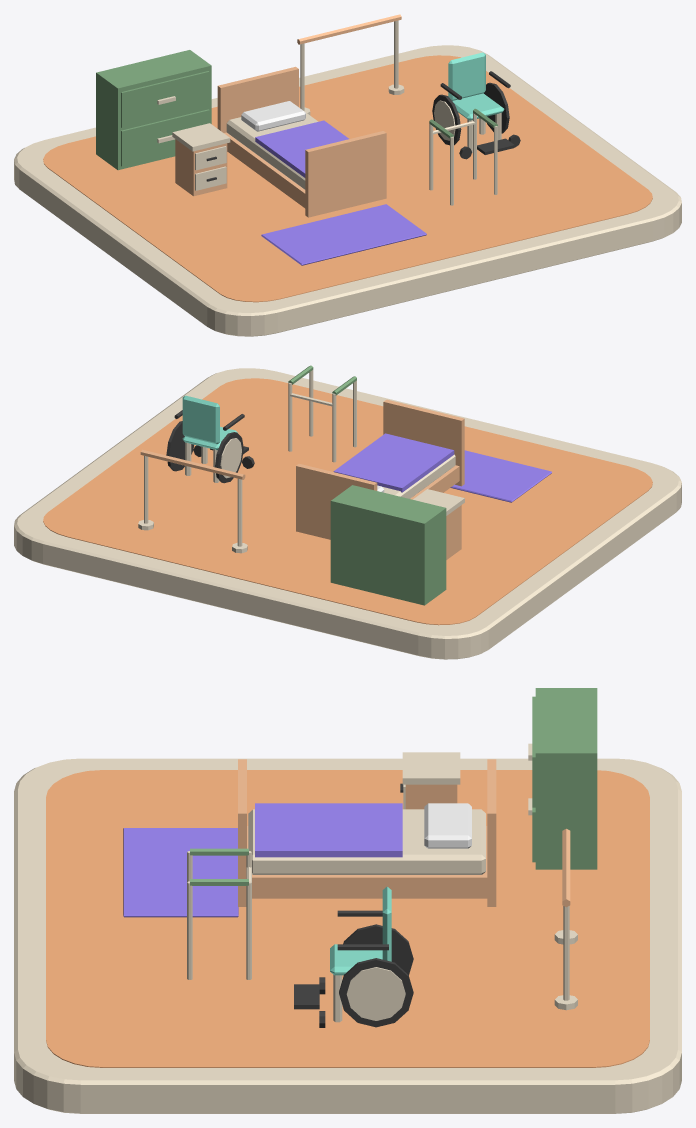
3 renders of one model, top to bottom at view 1: azimuth 30°, elevation 25°; view 2: azimuth 150°, elevation 25°; view 3: azimuth 270°, elevation 25°, orthographic. The views are drawn at different scales.
Visible parts, largest first — view 1: COM-02 Floor Surface, COM-01 Rounded Base Direct, Cabinet, End board, Rug, End board.001, Blanket, Mattress, Frame, Backrest, Body, Pillow (+7 smaller); view 2: COM-02 Floor Surface, COM-01 Rounded Base Direct, Cabinet, Blanket, End board, End board.001, Rug, Backrest, Mattress, Body, Handrail, Top (+4 smaller); view 3: COM-02 Floor Surface, COM-01 Rounded Base Direct, Cabinet, Rug, Blanket, Mattress, Frame, Push rim.001, Pillow, Top, Rear wheel.001, End board.001 (+8 smaller).
Part boxes in pixels (x1,y1,x2,y2): COM-02 Floor Surface: [43, 55, 652, 302]; COM-01 Rounded Base Direct: [14, 45, 681, 336]; Cabinet: [96, 50, 211, 170]; End board: [305, 131, 386, 217]; Rug: [261, 204, 426, 265]; End board.001: [217, 66, 298, 132]; Blanket: [255, 120, 348, 177]; Mattress: [226, 104, 318, 189]; Frame: [224, 132, 305, 208]; Backrest: [448, 52, 485, 100]; Body: [175, 139, 227, 196]; Pillow: [241, 101, 305, 131]; COM-02 Floor Surface: [43, 378, 652, 625]; COM-01 Rounded Base Direct: [14, 368, 681, 659]; Cabinet: [330, 485, 446, 605]; Blanket: [333, 433, 454, 492]; End board: [383, 399, 464, 486]; End board.001: [296, 463, 377, 539]; Rug: [450, 450, 551, 502]; Backrest: [182, 395, 219, 444]; Mattress: [383, 454, 455, 498]; Body: [446, 505, 461, 559]; Handrail: [140, 449, 245, 479]; Top: [413, 489, 464, 515]; COM-02 Floor Surface: [46, 770, 649, 1067]; COM-01 Rounded Base Direct: [14, 758, 681, 1113]; Cabinet: [528, 688, 597, 869]; Rug: [123, 828, 238, 917]; Blanket: [255, 803, 402, 857]; Mattress: [248, 809, 485, 874]; Frame: [247, 826, 487, 898]; Push rim.001: [346, 967, 405, 1020]; Pillow: [424, 803, 471, 848]; Top: [402, 752, 460, 784]; Rear wheel.001: [339, 958, 413, 1027]; End board.001: [487, 759, 496, 906].
Size of the model in its own units: 6 by 1.3 by 5.2.
Materials: 1 (1 with a texture image).
